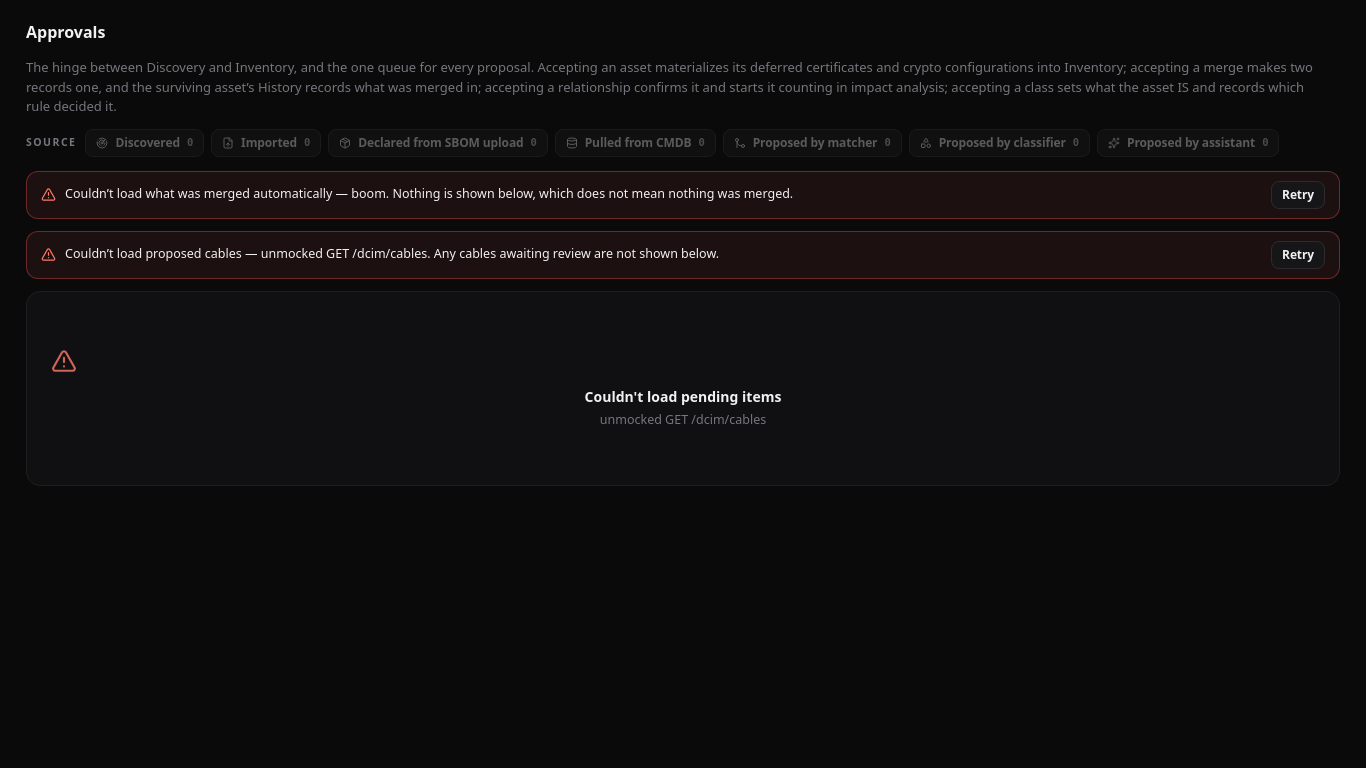
Test case: Retry re-reads, and the rows appear when the second read succeeds
The width and height of the screenshot is (1366, 768).
Click the button "Retry" in the row of "boom".
click(1298, 194)  # box [1271, 180, 1325, 208]
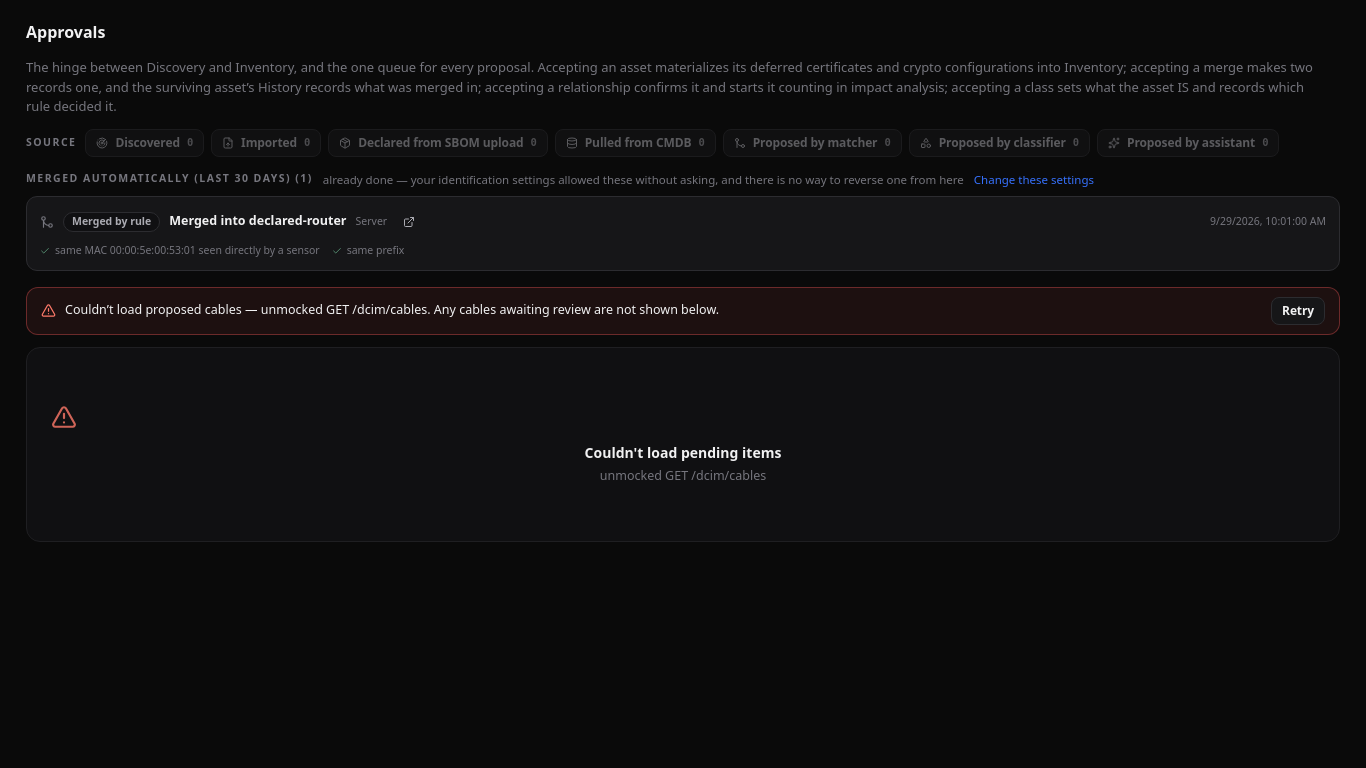
Now the element with test id "auto-merged-error" is gone
